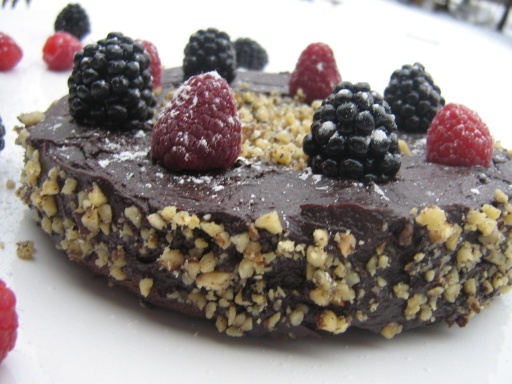background: (10, 1, 409, 205), (0, 17, 19, 42)
